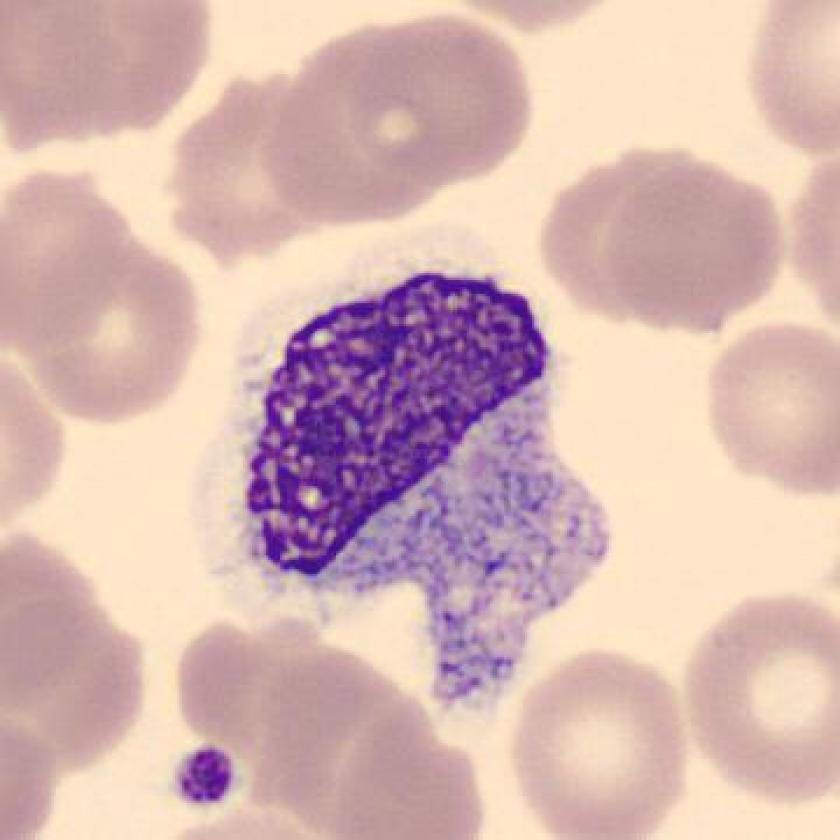monocyte: (181, 226, 640, 742)
